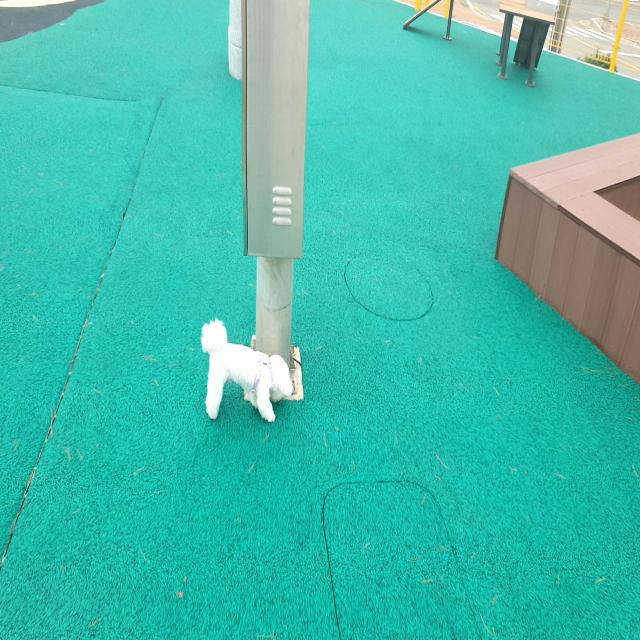Dog: (201, 319, 293, 421)
